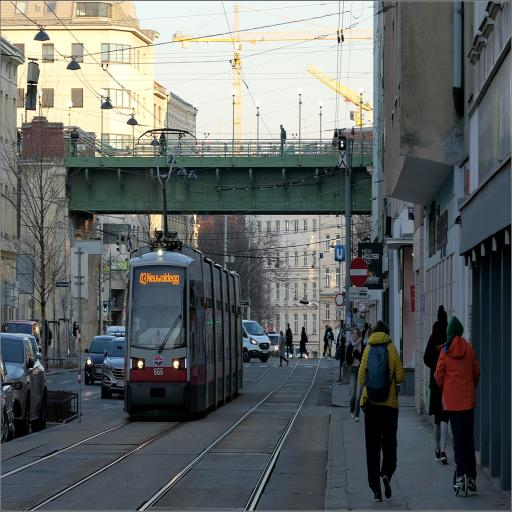ULF: (124, 246, 243, 414)
